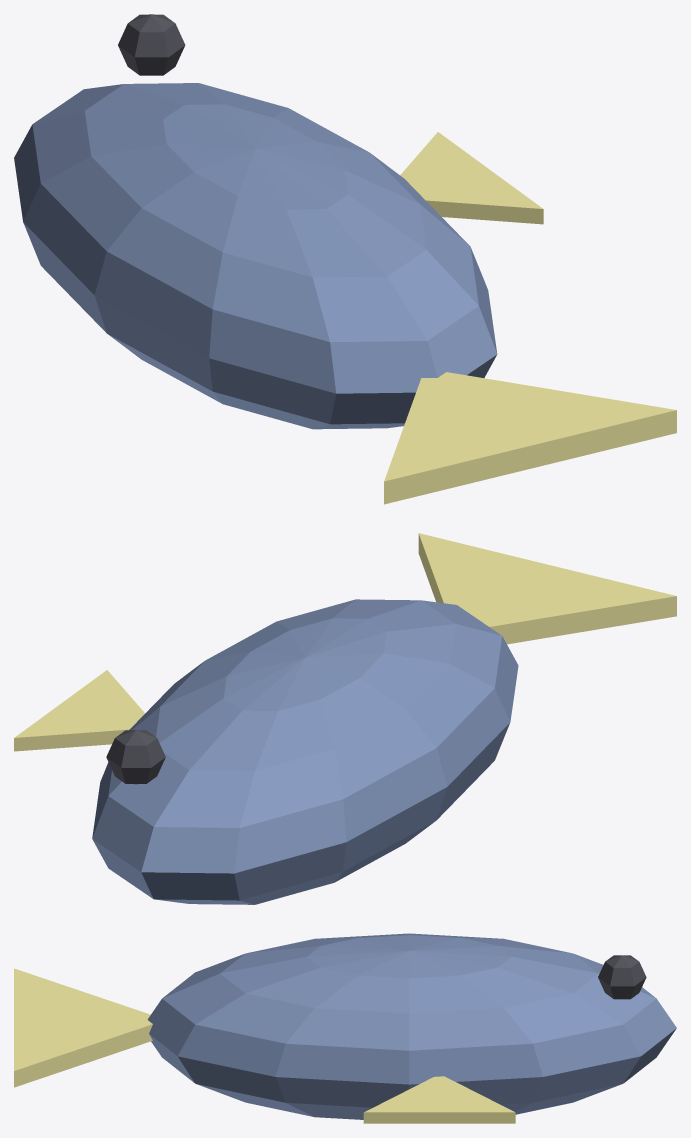
Rendered from tuna_held.gltf.
3 views of the same model, one above another, from view 1: azimuth 30°, elevation 25°; view 2: azimuth 150°, elevation 25°; view 3: azimuth 270°, elevation 25° (orthographic). The views are drawn at different scales.
Visible parts, largest first — view 1: pets_fish_held; view 2: pets_fish_held; view 3: pets_fish_held.
Boxes of the visible parts, x1=… form: pets_fish_held: x1=14, y1=14, x2=676, y2=504; pets_fish_held: x1=14, y1=533, x2=676, y2=904; pets_fish_held: x1=14, y1=933, x2=676, y2=1123.
Bounding box in the file's own units: 0.114 × 0.06 × 0.218.
